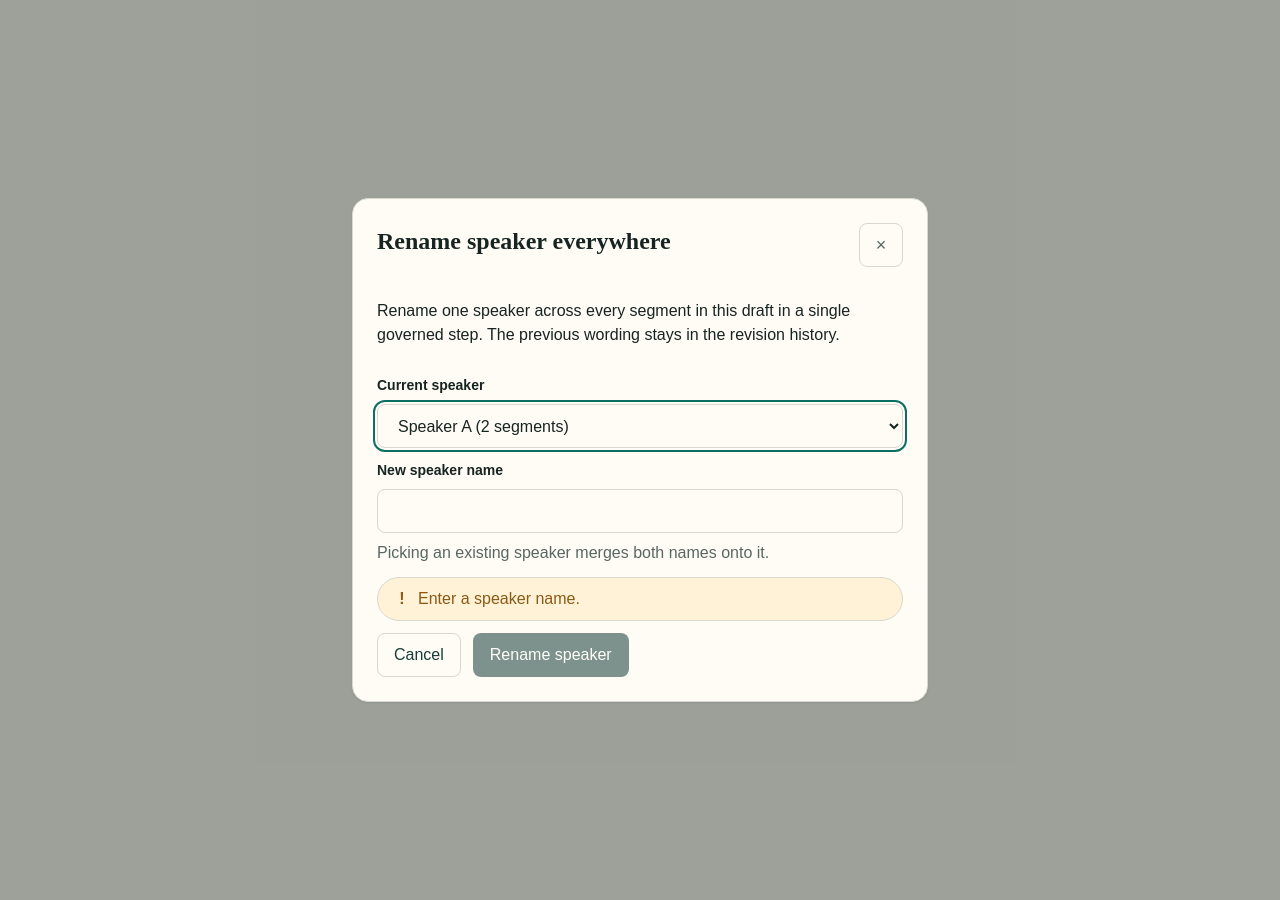
Scenario: SpeakerRenameDialog › names the merge when the new name matches an existing speaker
Select "Speaker B (2 segments)" in the dropdown labelled "Current speaker" at (640, 426), box top-left (377, 404), bottom-right (903, 448)
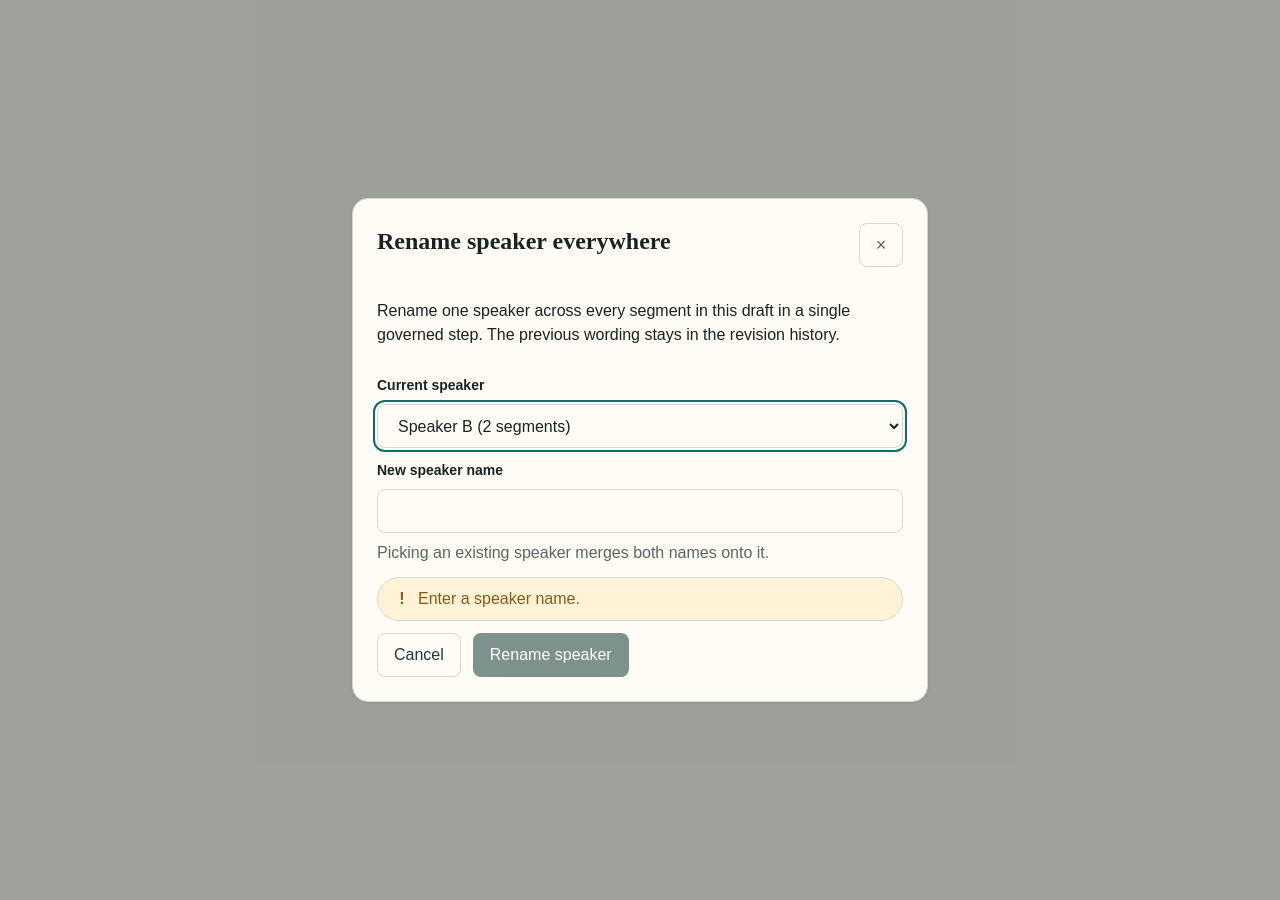
Type "Speaker A" into the field labelled "New speaker name" at (640, 511), box top-left (377, 489), bottom-right (903, 533)
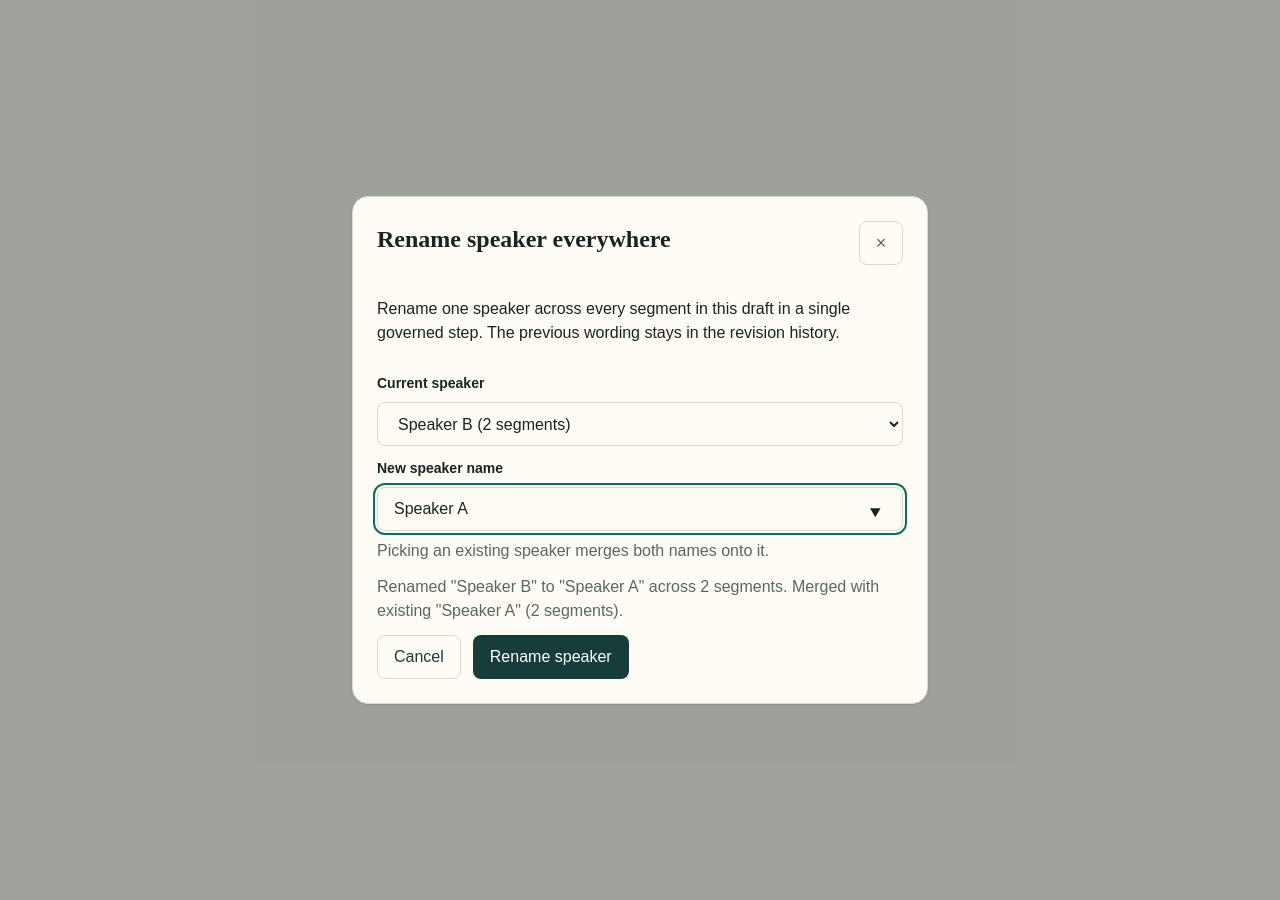
Result: the text with test id "speaker-rename-summary" shows "Renamed \"Speaker B\" to \"Speaker A\" across 2 segments. Merged with existing \"Speaker A\" (2 segments)." at top-left (377, 578), bottom-right (879, 619)
